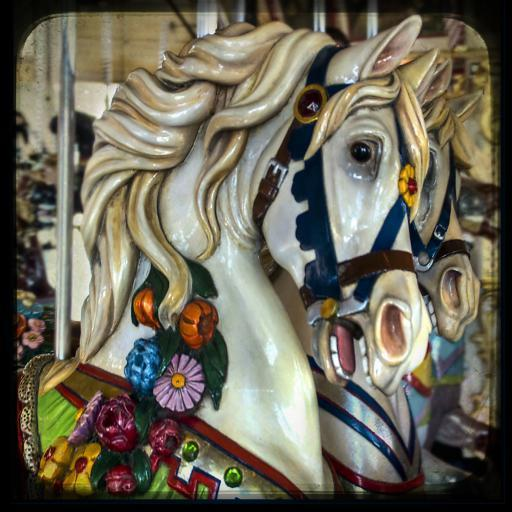horse: (16, 12, 439, 498), (304, 59, 482, 497)
